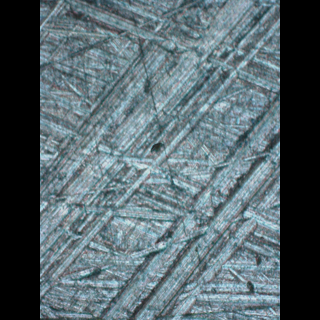d: (40, 6, 277, 320)
